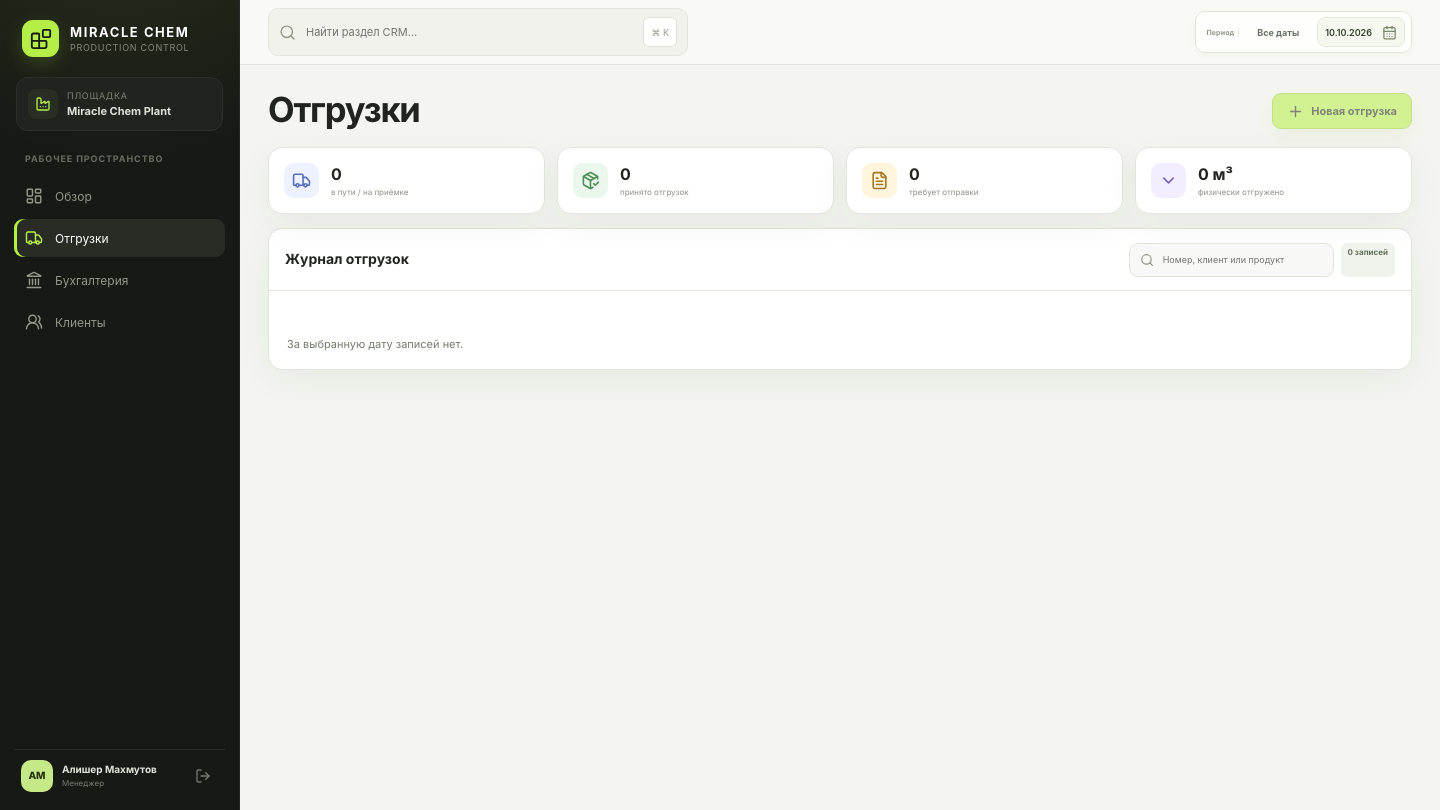
Test: Miracle Chem app shell › does not expose global 1C sales or finance to a manager
The image size is (1440, 810).
Expected: the heading "Отгрузки" is shown, [268,93,420,129]
Step 1. Click the button "Бухгалтерия" → click(120, 280), box [14,261,225,299]
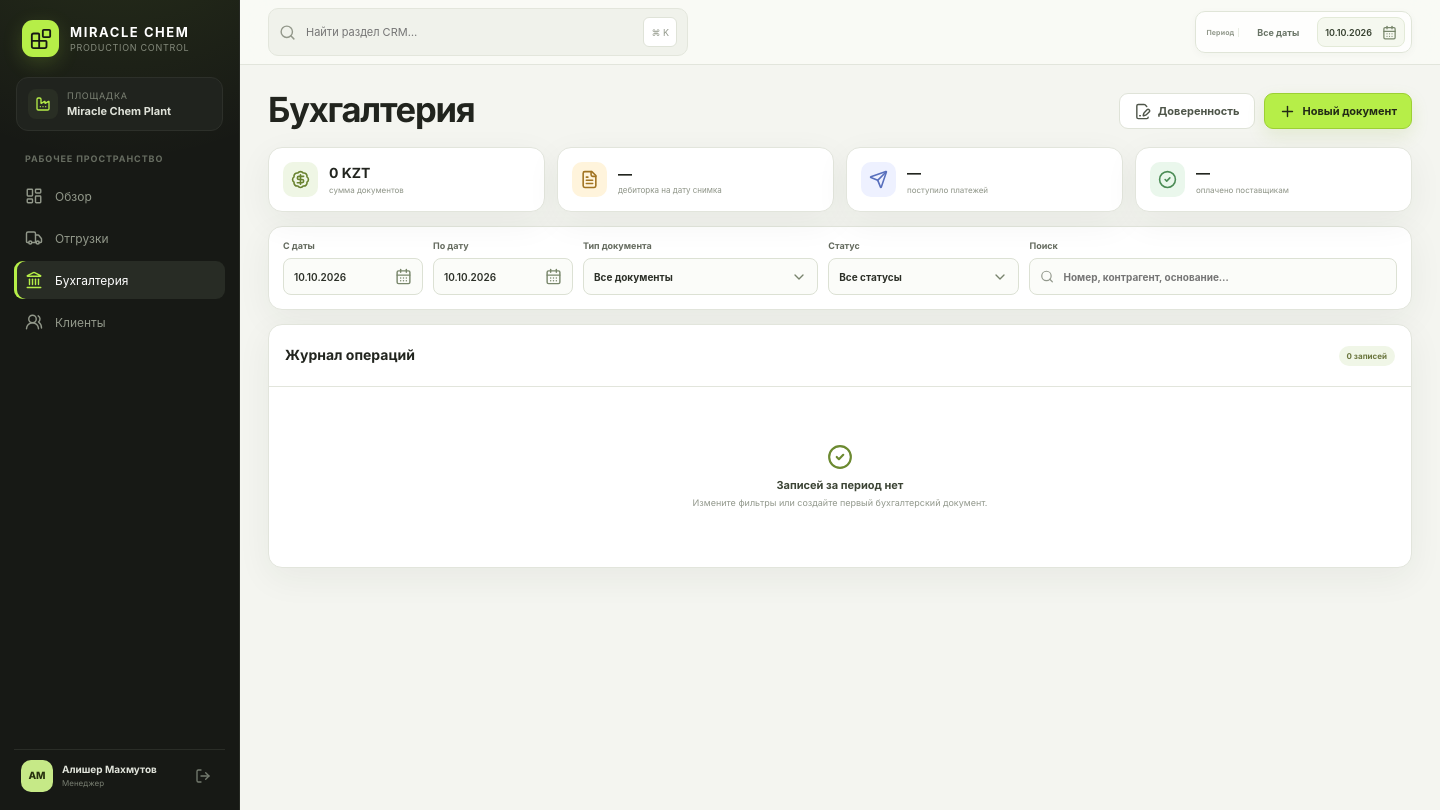
Now the heading "Бухгалтерия" is shown, box [268,93,475,129]
